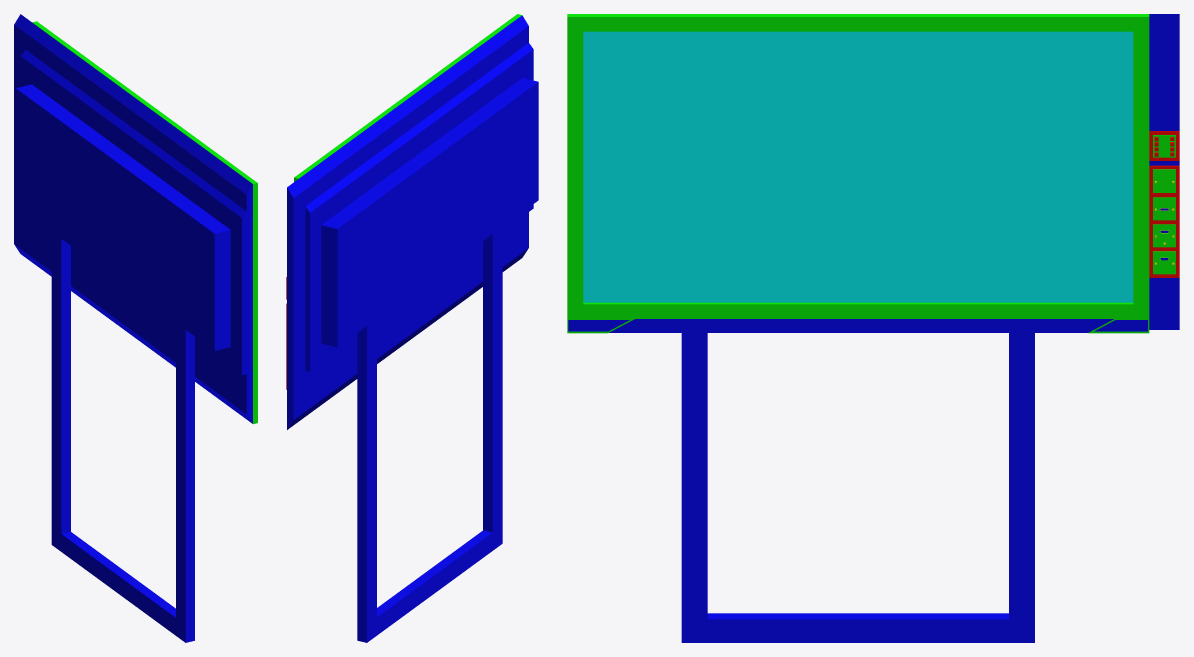
The model's file is Digitalboard.fbx.
The picture shows the model from 3 angles, left to right: view 1: azimuth 30°, elevation 25°; view 2: azimuth 150°, elevation 25°; view 3: azimuth 270°, elevation 25°; orthographic projection. The views are drawn at different scales.
Visible parts, largest first — view 1: Cube; view 2: Cube; view 3: Cube.
Boxes of the visible parts, <box> form: Cube: <box>14,14,257,642</box>; Cube: <box>286,14,538,642</box>; Cube: <box>567,14,1179,642</box>.
Size of the model in its own units: 287 by 22.86 by 330.
